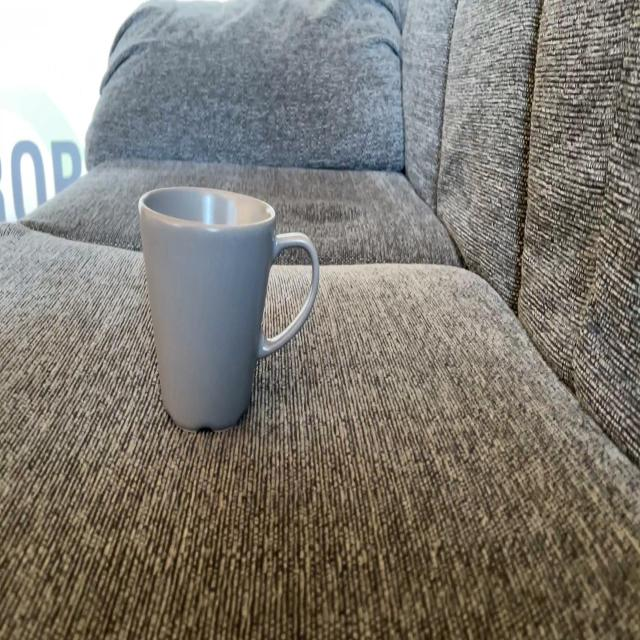cup: (125, 184, 318, 432)
